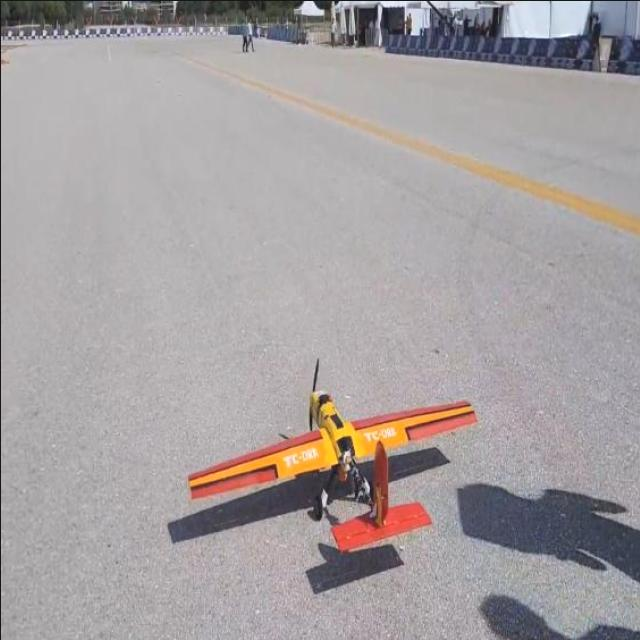plane: (185, 355, 477, 553)
